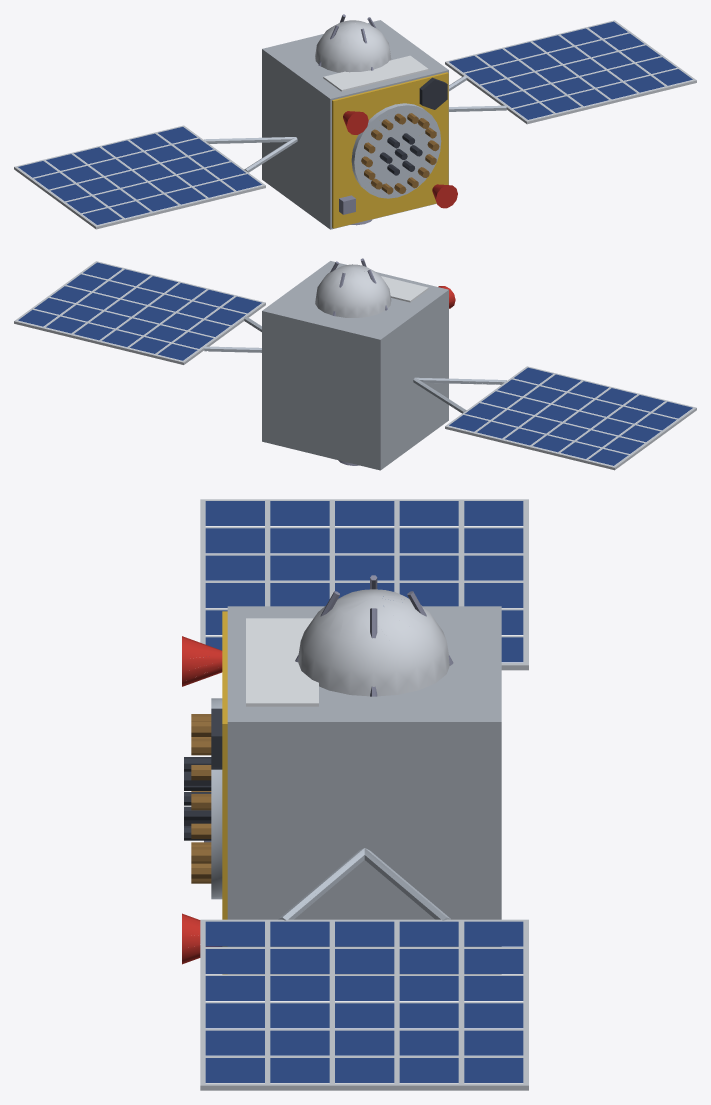
File: irnss.glb
3 renders of one model, top to bottom at view 1: azimuth 30°, elevation 25°; view 2: azimuth 150°, elevation 25°; view 3: azimuth 270°, elevation 25°, orthographic. The views are drawn at different scales.
Visible parts, largest first — view 1: body, solar-panel, foil; view 2: body, solar-panel; view 3: body, solar-panel, foil.
Part boxes in pixels (box(x1,y1,x2,y2)): body: box(14, 14, 696, 229); solar-panel: box(18, 21, 692, 224); foil: box(332, 72, 448, 228); body: box(14, 258, 696, 470); solar-panel: box(18, 262, 692, 465); body: box(182, 499, 528, 1090); solar-panel: box(205, 501, 523, 1082); foil: box(222, 611, 227, 974).
Size of the model in its own units: 7.6 by 2.35 by 1.9.
